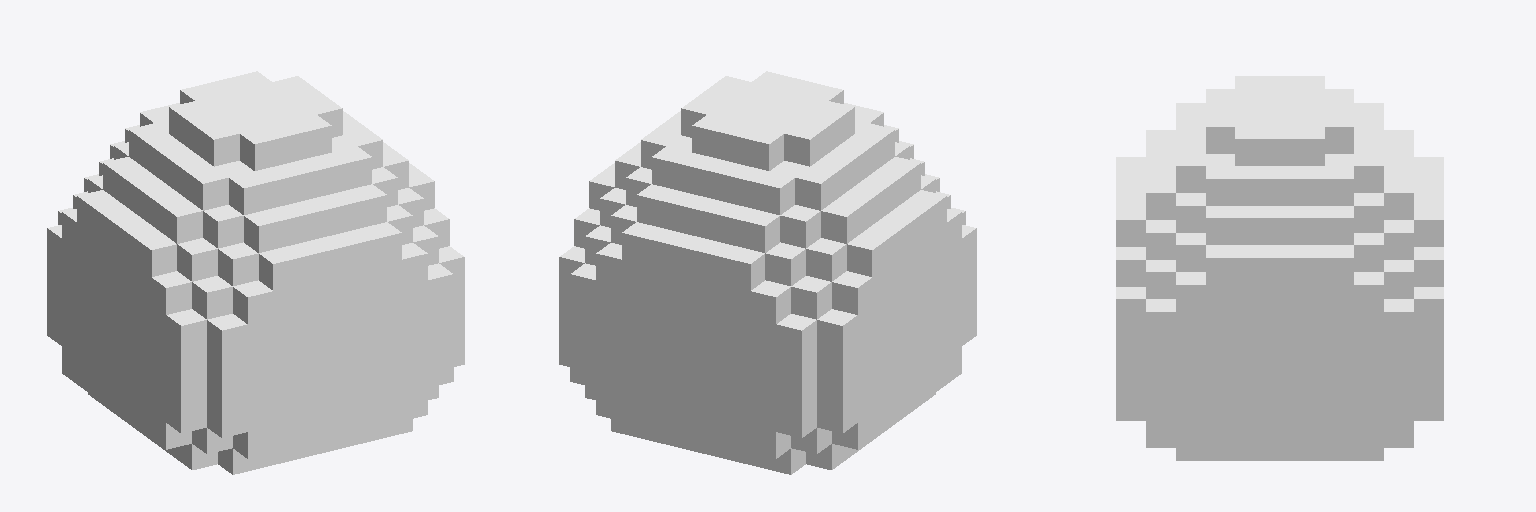
File: blob.obj
3 renders of one model, left to right at view 1: azimuth 30°, elevation 25°; view 2: azimuth 150°, elevation 25°; view 3: azimuth 270°, elevation 25°, orthographic.
Visible parts, largest first — view 1: blob; view 2: blob; view 3: blob.
Part boxes in pixels (bbox=[...]): blob: bbox=[47, 71, 464, 474]; blob: bbox=[559, 71, 976, 474]; blob: bbox=[1116, 76, 1443, 460].
Bounding box in the file's own units: 1.1 × 1.1 × 1.1.